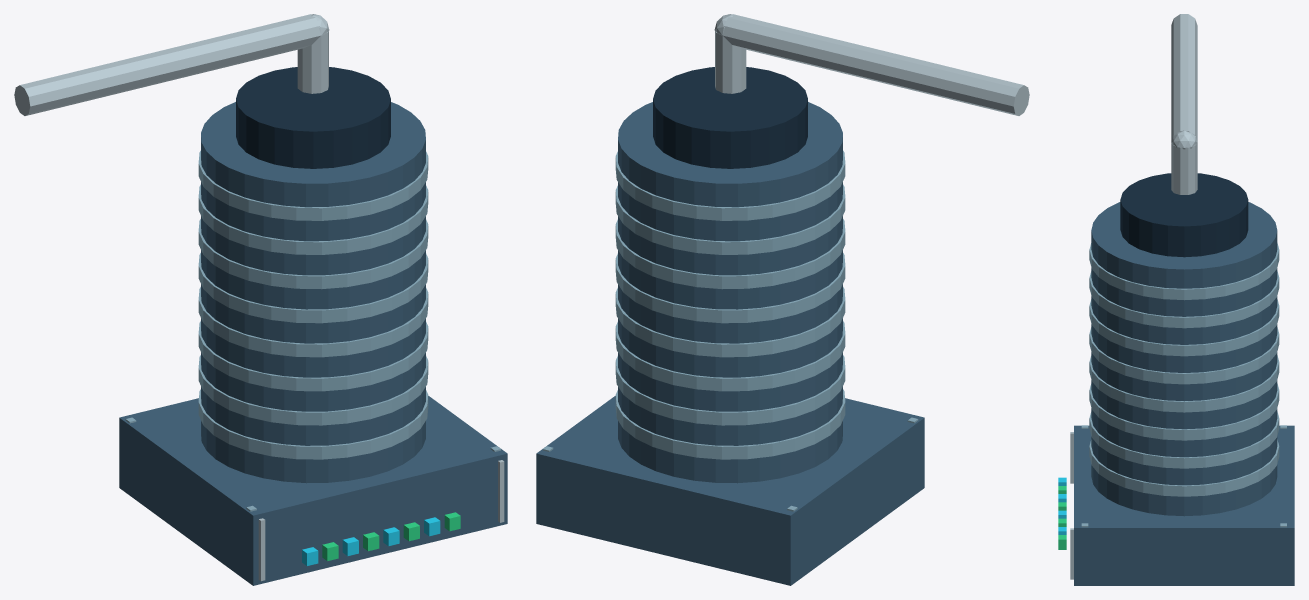
The model's file is 48_L72_VirtualExhaustTreatmentModule.fbx.
3 renders of one model, left to right at view 1: azimuth 30°, elevation 25°; view 2: azimuth 150°, elevation 25°; view 3: azimuth 270°, elevation 25°, orthographic. The views are drawn at different scales.
Visible parts, largest first — view 1: VirtualExhaustTreatmentModule; view 2: VirtualExhaustTreatmentModule; view 3: VirtualExhaustTreatmentModule.
Boxes of the visible parts, box(x1,y1,x2,y2) form: VirtualExhaustTreatmentModule: box(14, 14, 507, 585); VirtualExhaustTreatmentModule: box(536, 14, 1029, 585); VirtualExhaustTreatmentModule: box(1058, 14, 1294, 585).
Bounding box in the file's own units: 206 × 230 × 122.
